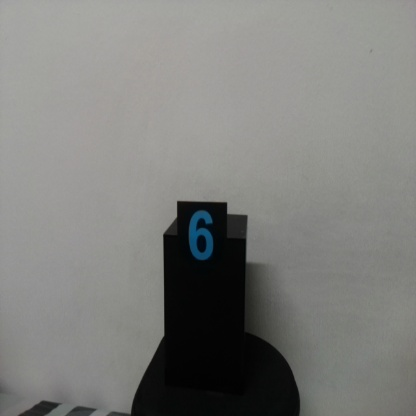id_6: (177, 201, 228, 281)
